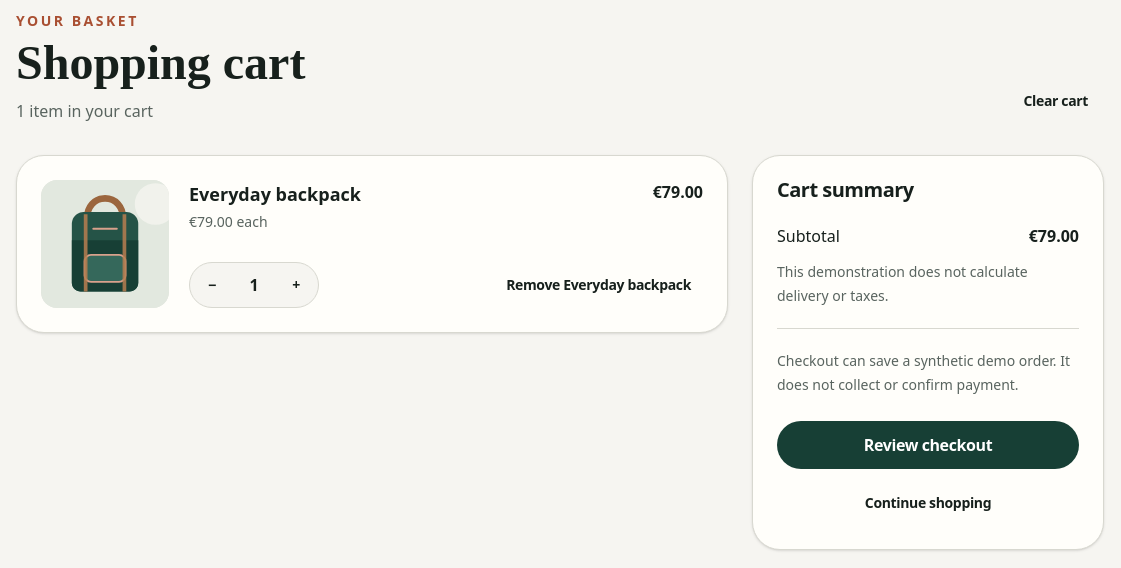
Scenario: CartPage › renders cart details and updates quantities and derived totals
Check: the picture named "forest green canvas backpack" is shown, box [41,180,169,308]
Check: the text "€79.00 each" is shown, box [189,212,268,231]
Click the button named "Increase quantity of Everyday backpack".
click(296, 285)  # box [274,263,318,307]
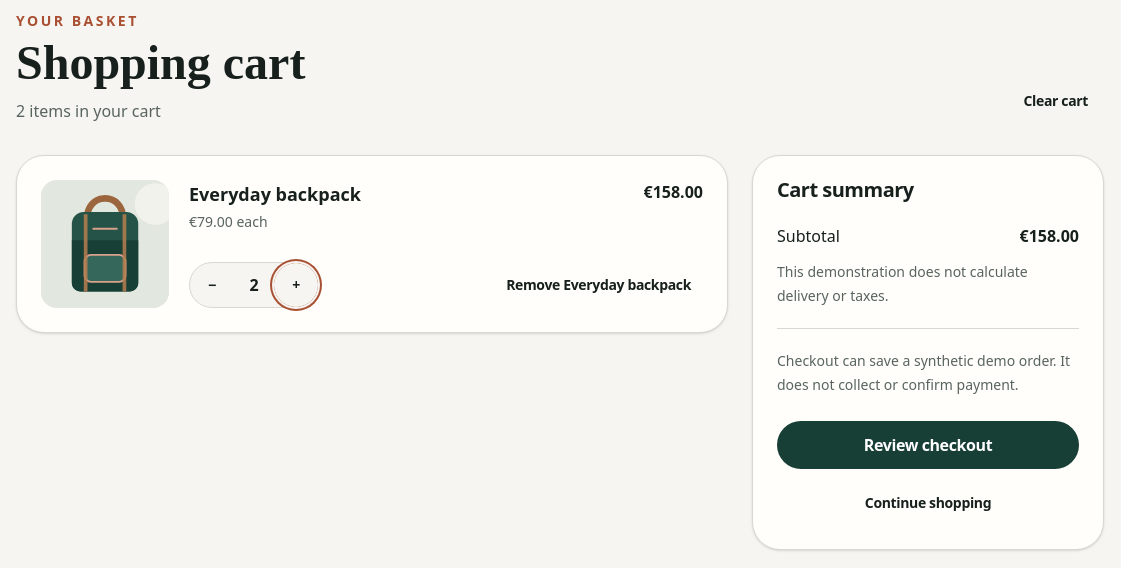
Check: the text named "Quantity of Everyday backpack" reads "2", box [249,274,259,296]
Check: the text named "Line total for Everyday backpack" reads "€158.00", box [644,181,703,203]
